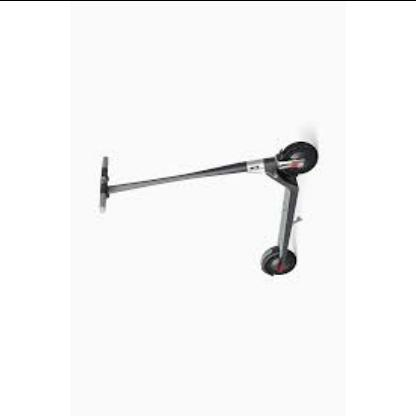bike: (97, 141, 319, 277)
